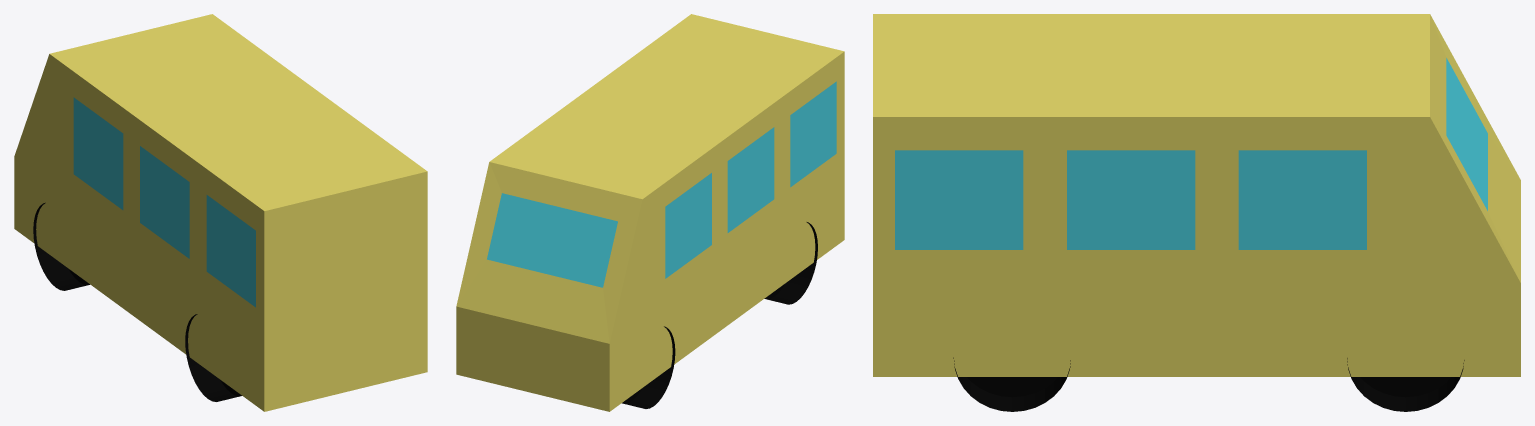
File: scuolabus.glb
The picture shows the model from 3 angles, left to right: view 1: azimuth 30°, elevation 25°; view 2: azimuth 150°, elevation 25°; view 3: azimuth 270°, elevation 25°; orthographic projection. The views are drawn at different scales.
Visible parts, largest first — view 1: Cube.001, Cylinder.001, Cylinder.002; view 2: Cube.001, Cylinder.001, Cylinder.002; view 3: Cube.001, Cylinder.003, Cylinder.
Part boxes in pixels (bbox=[...]): Cube.001: bbox=[14, 14, 427, 411]; Cylinder.001: bbox=[33, 202, 89, 290]; Cylinder.002: bbox=[185, 314, 241, 401]; Cube.001: bbox=[456, 14, 844, 411]; Cylinder.001: bbox=[622, 326, 675, 408]; Cylinder.002: bbox=[764, 222, 817, 304]; Cube.001: bbox=[873, 14, 1520, 376]; Cylinder.003: bbox=[953, 357, 1070, 411]; Cylinder: bbox=[1347, 358, 1464, 411].
Size of the model in its own units: 2.07 by 2.65 by 5.31.
